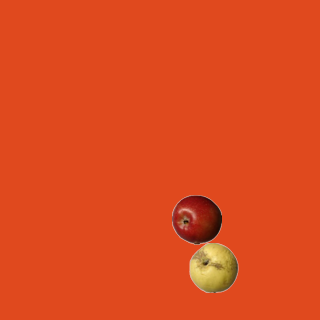Apple Braeburn: (171, 194, 221, 244)
Apple Golden 1: (188, 242, 238, 292)
